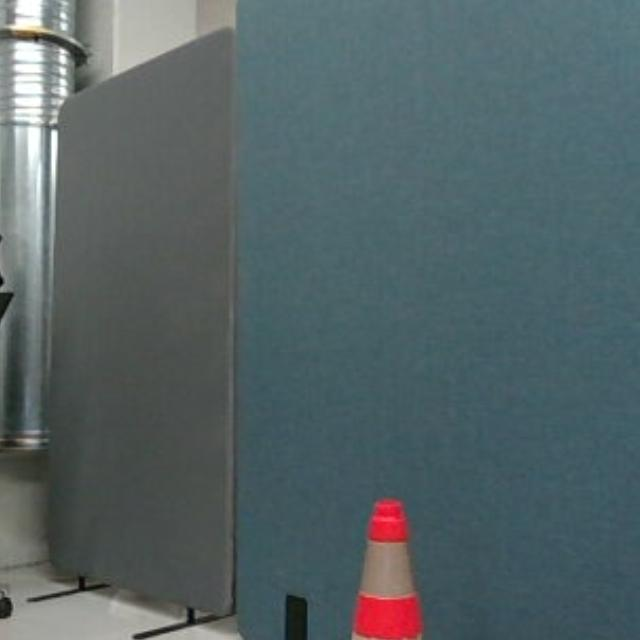Traffic-cone: (288, 492, 484, 640)
